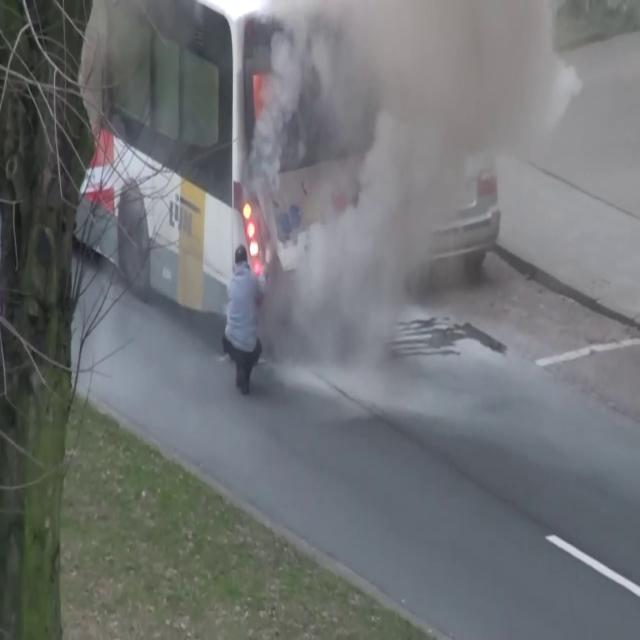Smoke: (247, 0, 582, 436), (248, 0, 590, 299)
